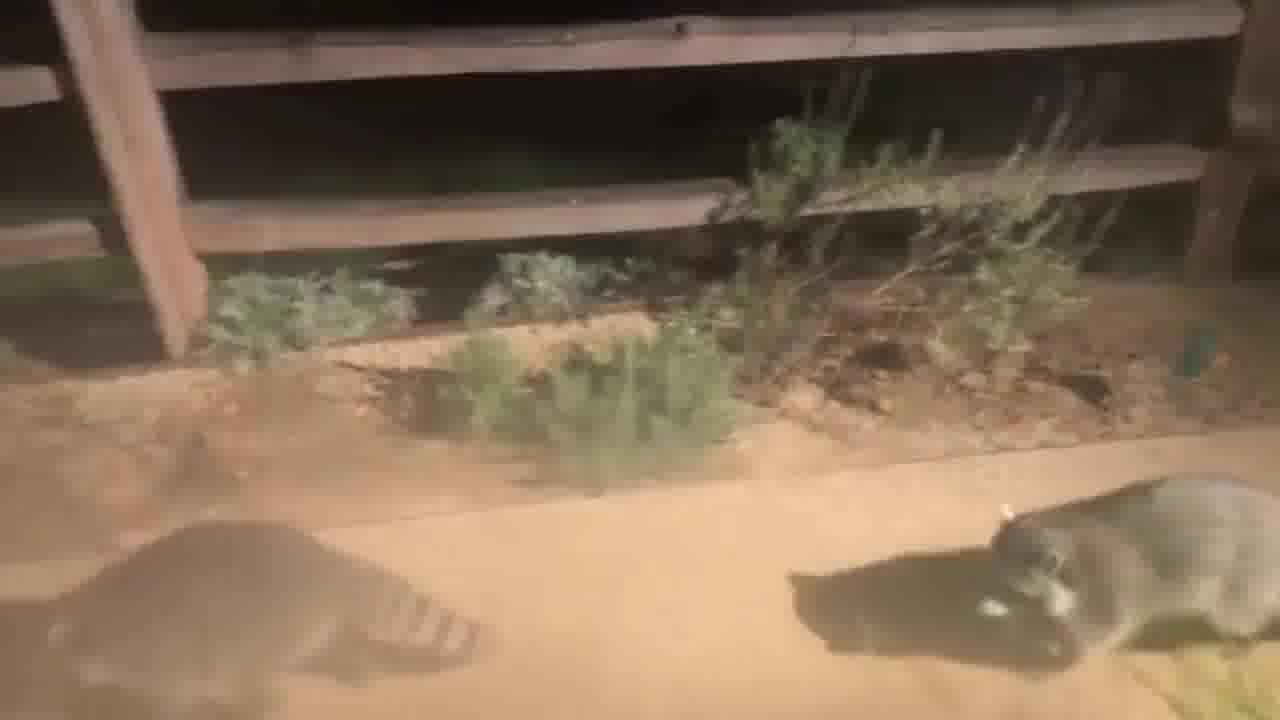raccoon: (26, 509, 501, 720), (959, 472, 1280, 668)
